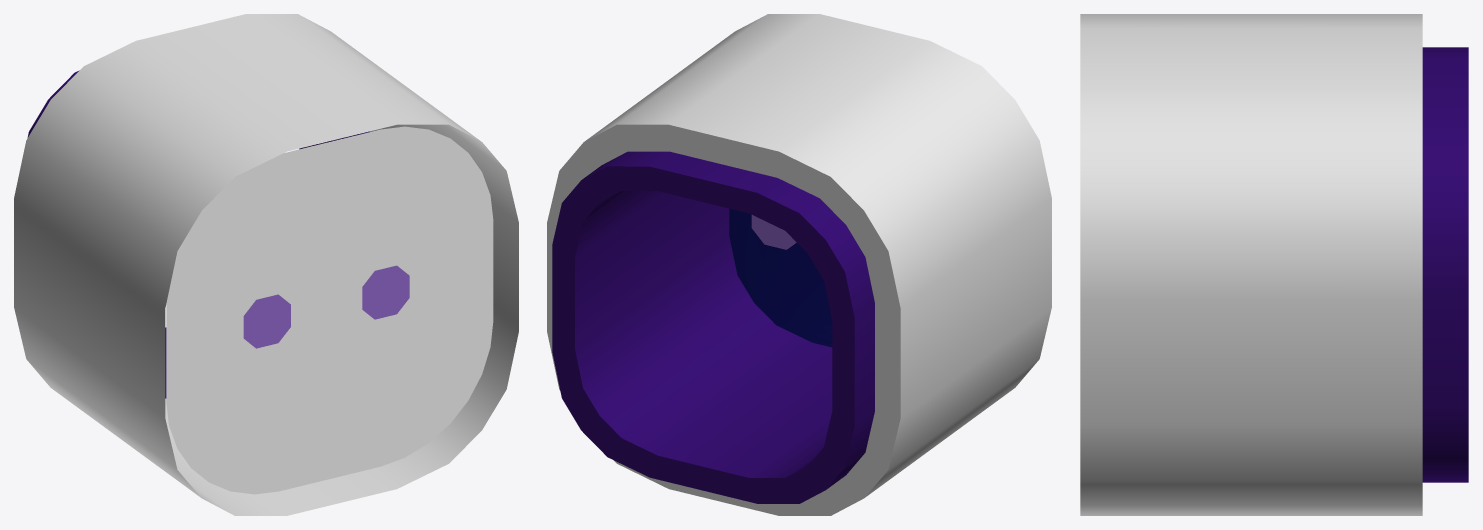
Rendered from SM_socket_1.fbx.
3 renders of one model, left to right at view 1: azimuth 30°, elevation 25°; view 2: azimuth 150°, elevation 25°; view 3: azimuth 270°, elevation 25°, orthographic. The views are drawn at different scales.
Visible parts, largest first — view 1: SM_socket_1; view 2: SM_socket_1; view 3: SM_socket_1.
Boxes of the visible parts, left/top/right/bottom form: SM_socket_1: left=14, top=14, right=518, bottom=515; SM_socket_1: left=547, top=14, right=1051, bottom=515; SM_socket_1: left=1080, top=14, right=1468, bottom=515.
Size of the model in its own units: 2.38 by 2.34 by 2.
